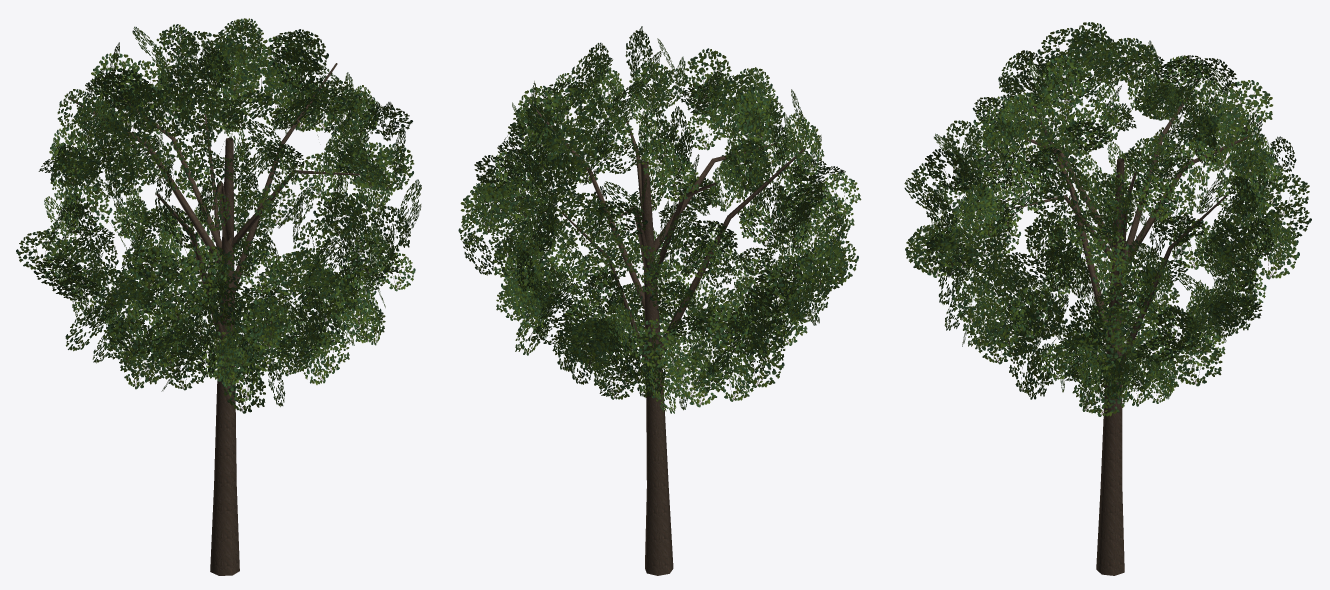
Rendered from tpl_dike_elms_dike_elm_hi.glb.
3 views of the same model, side by side, from view 1: azimuth 30°, elevation 25°; view 2: azimuth 150°, elevation 25°; view 3: azimuth 270°, elevation 25° (orthographic). The views are drawn at different scales.
Parts seen in each view (by area): view 1: tpl_dike_elms_dike_elm_hi; view 2: tpl_dike_elms_dike_elm_hi; view 3: tpl_dike_elms_dike_elm_hi.
Boxes of the visible parts, bbox=[...] form: tpl_dike_elms_dike_elm_hi: bbox=[16, 18, 421, 575]; tpl_dike_elms_dike_elm_hi: bbox=[458, 26, 861, 575]; tpl_dike_elms_dike_elm_hi: bbox=[904, 22, 1311, 575].
Bounding box in the file's own units: 14 × 19.82 × 14.41.
2 materials, 2 textured.
